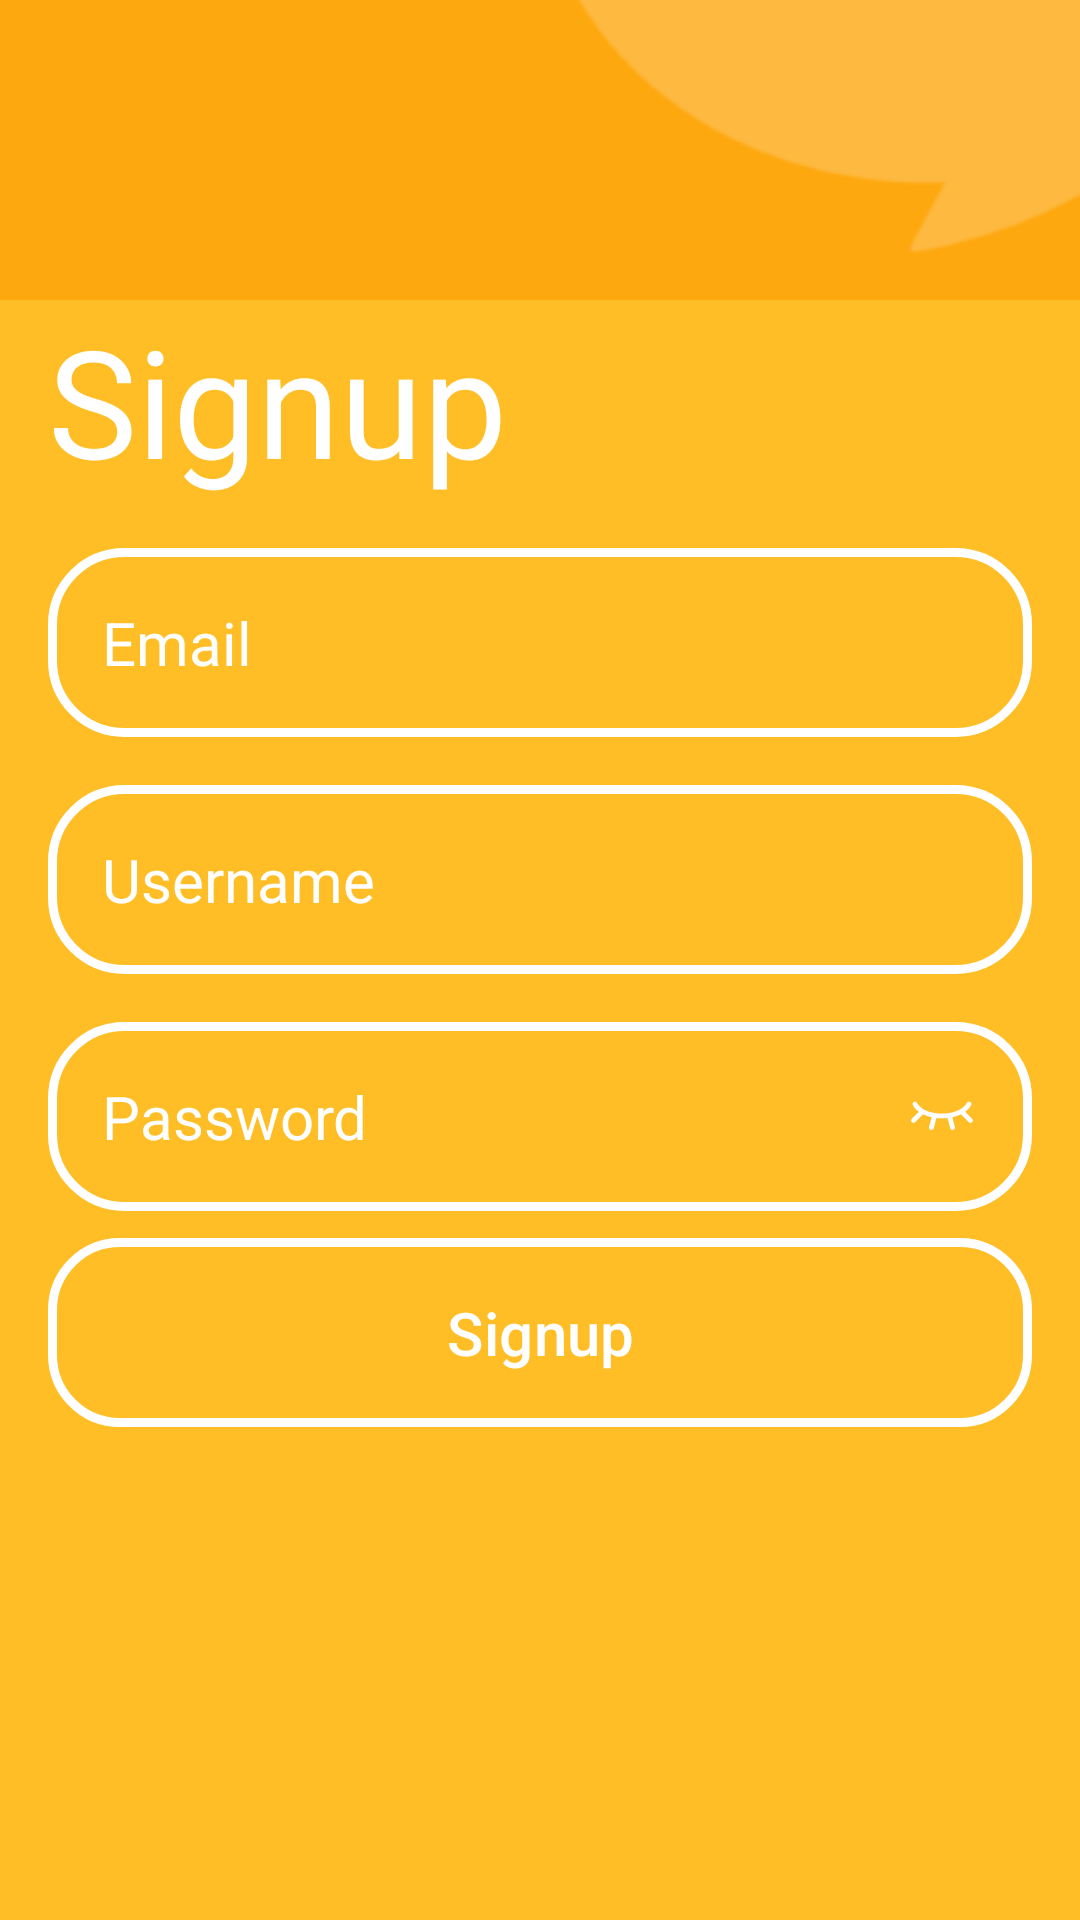

Icon bounding boxes for this 1080px×1920px phone screenshot, format bbox=(x1, y1, x2, y2):
notview: bbox=(911, 1101, 973, 1130)
